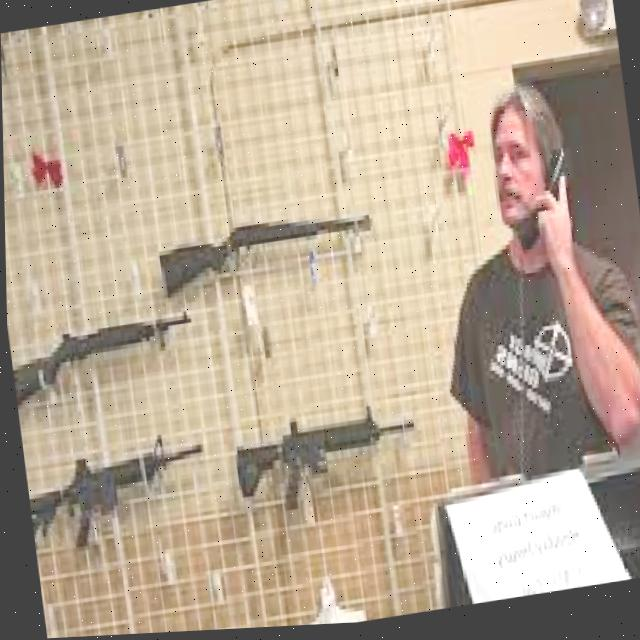firearm: (20, 425, 212, 557), (227, 400, 420, 524), (151, 206, 376, 303), (5, 306, 198, 408)
